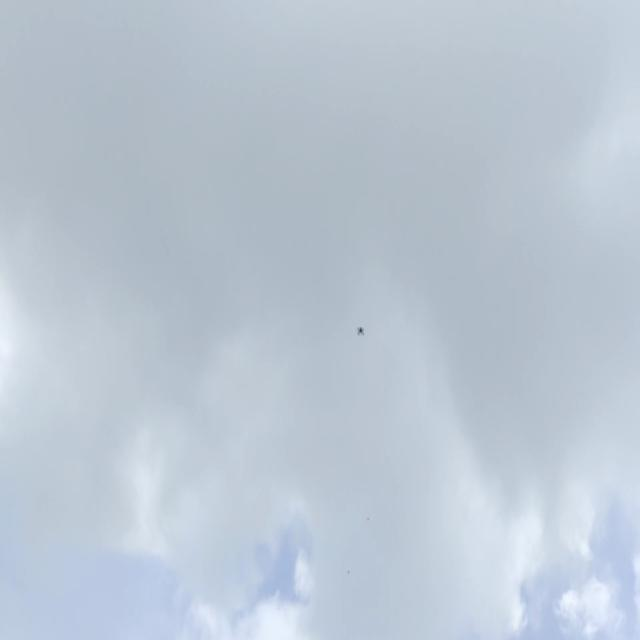drone: (352, 322, 368, 343)
